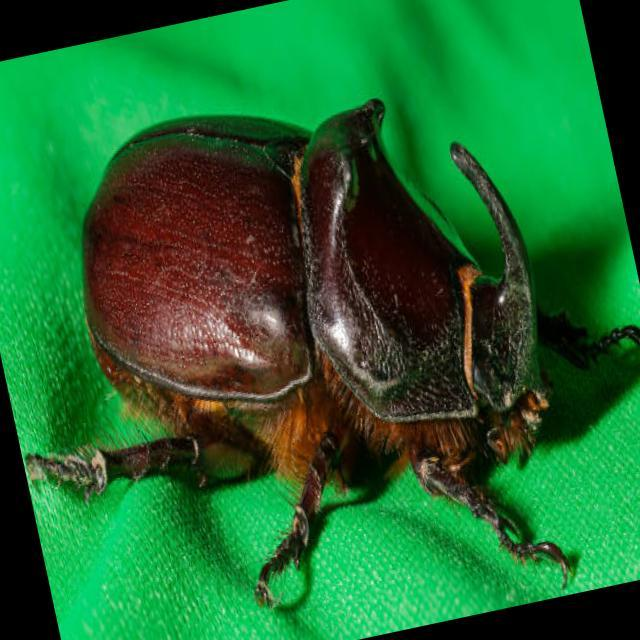Rhino-beetle: (19, 84, 620, 539)
